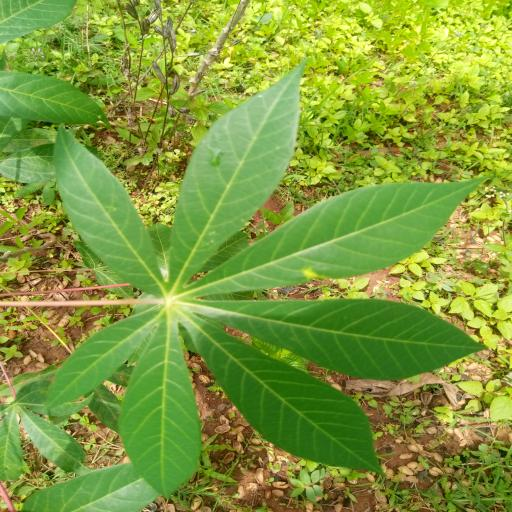Cassava_Healthy: (40, 62, 493, 490)
